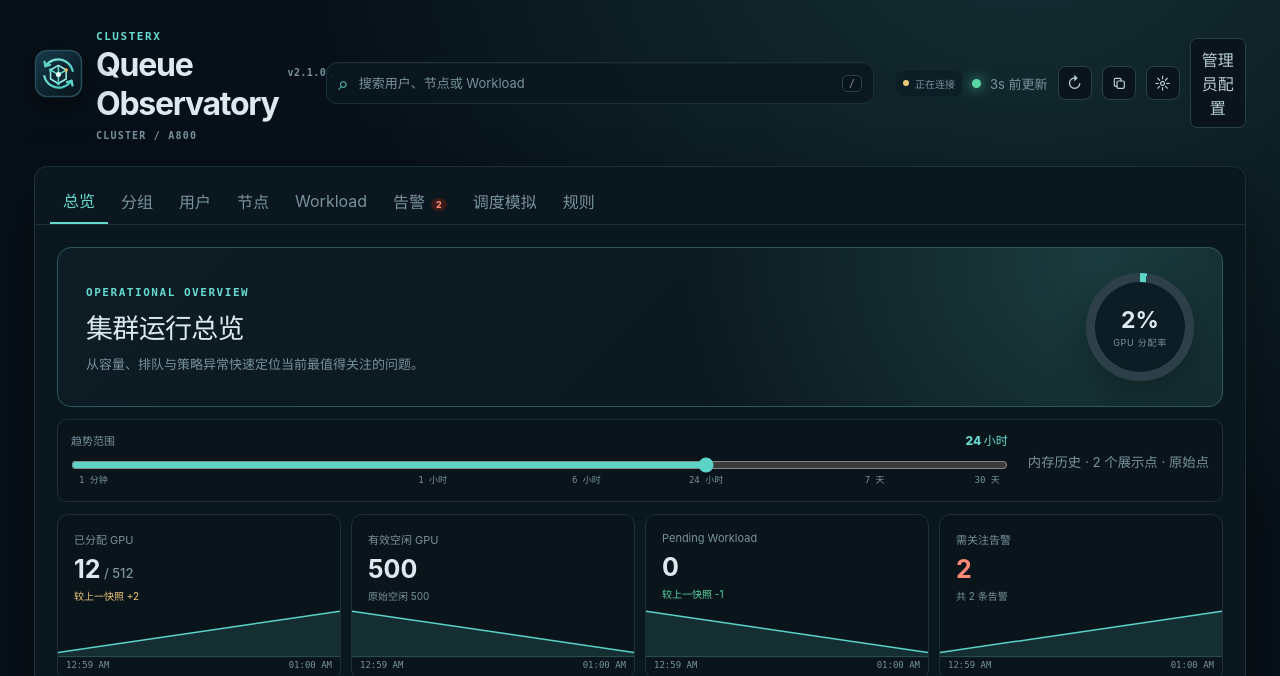
Scenario: Clusterx monitor dashboard › enters an editable exact-node simulation from problem details
Expected: the heading "Queue Observatory" is shown, [96, 45, 278, 123]
Click the button with aria-label "nodes". click: (253, 201)
box: [224, 178, 282, 224]
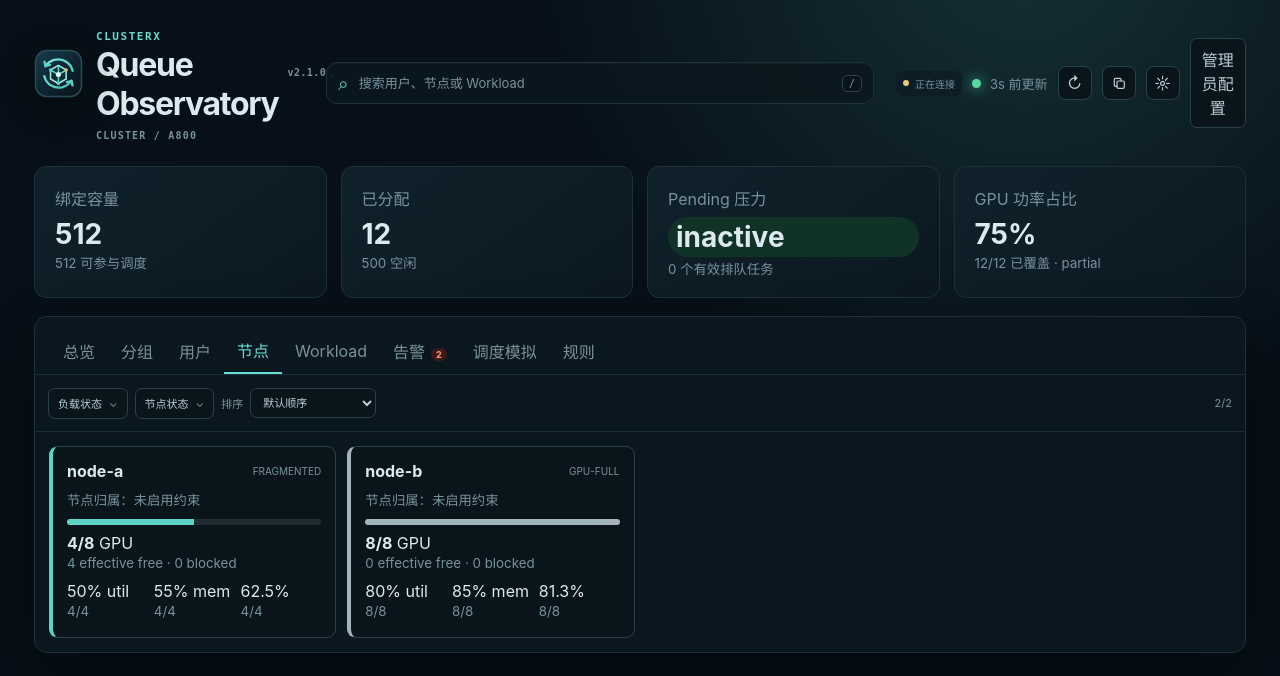
Click the button with aria-label "查看 node-a 详情". click: (95, 471)
box: [49, 446, 336, 638]
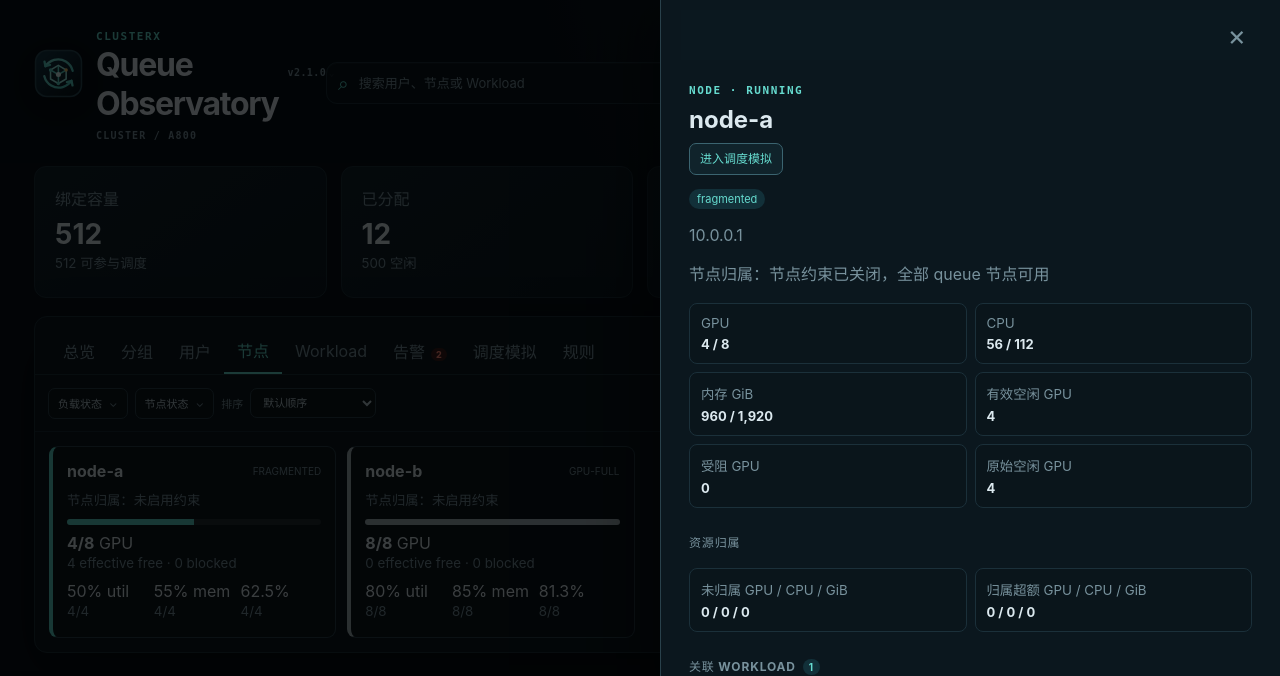
Now the button "进入调度模拟" is shown
Click the button "进入调度模拟". click: (736, 159)
box: [689, 143, 783, 175]
(page scrolled)
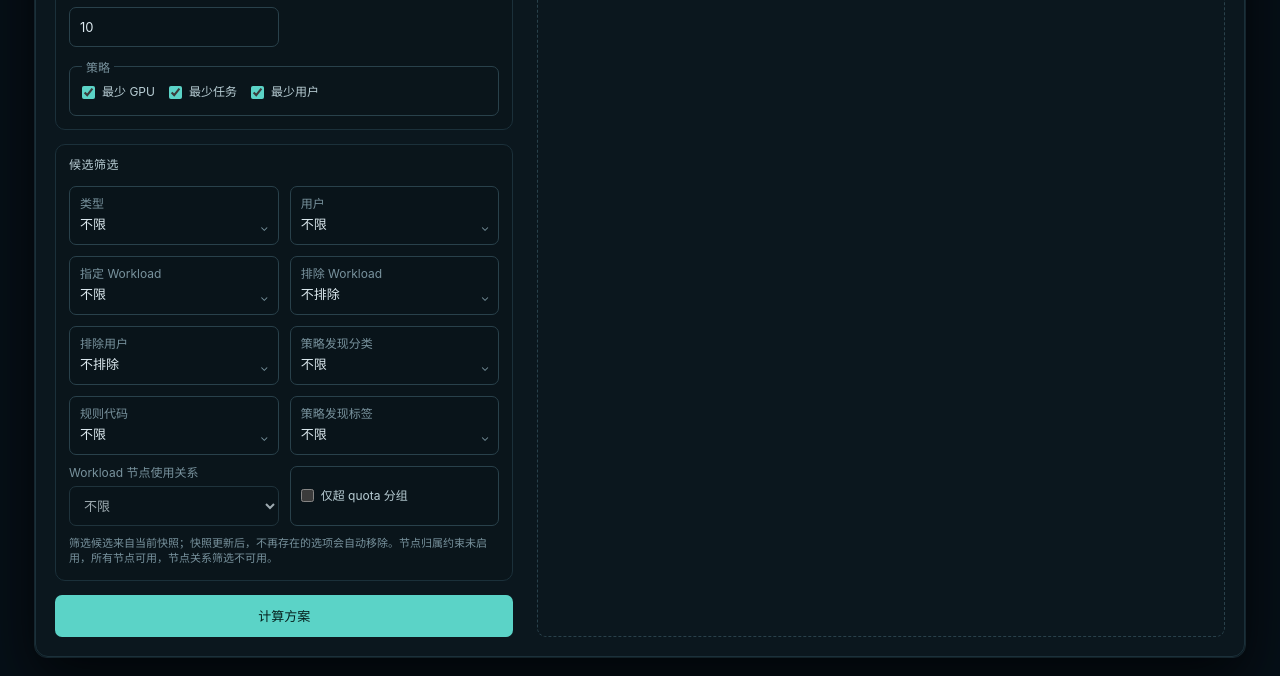
Click the button "计算方案". click: (284, 616)
box: [55, 595, 513, 637]
(page scrolled)
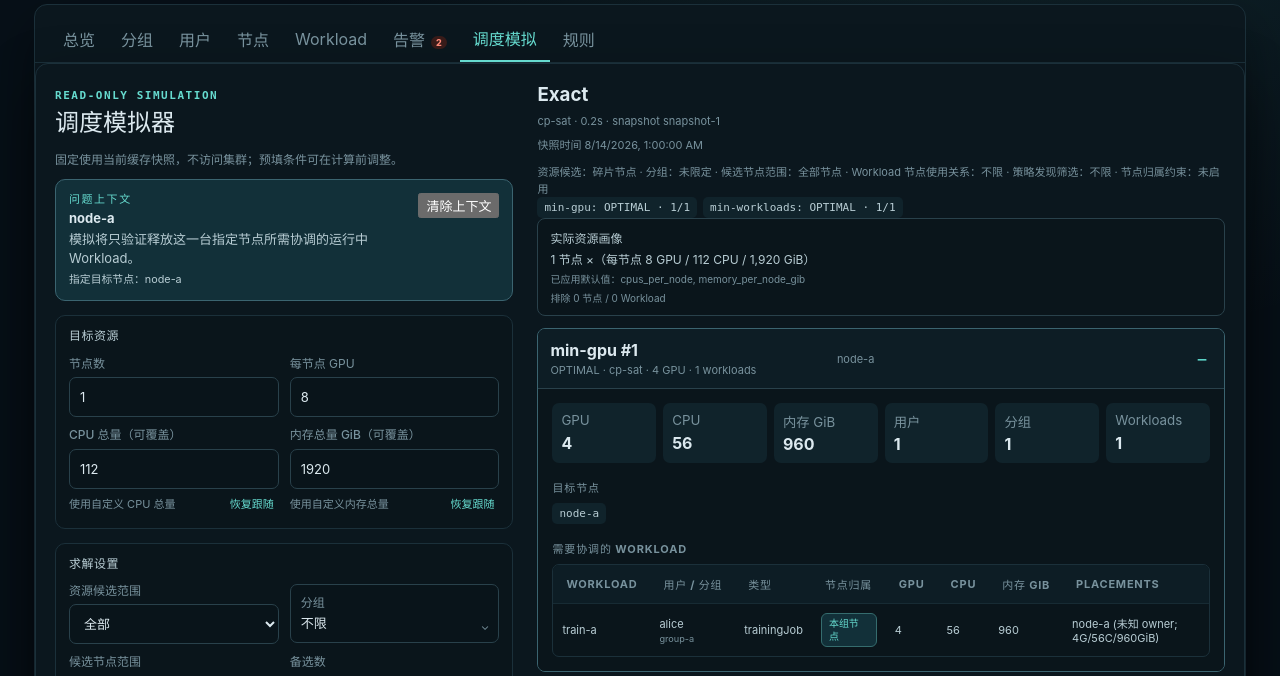
Now the button "min-gpu #1 OPTIMAL · cp-sat · 4 GPU · 1 workloads node-a −" is shown, box [538, 329, 1224, 388]
